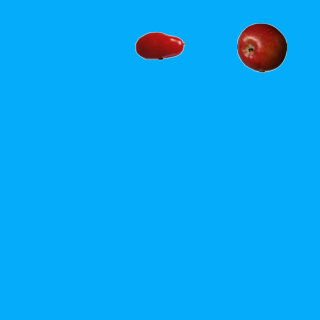Apple Braeburn: (236, 22, 286, 72)
Tomato 2: (134, 20, 184, 70)
